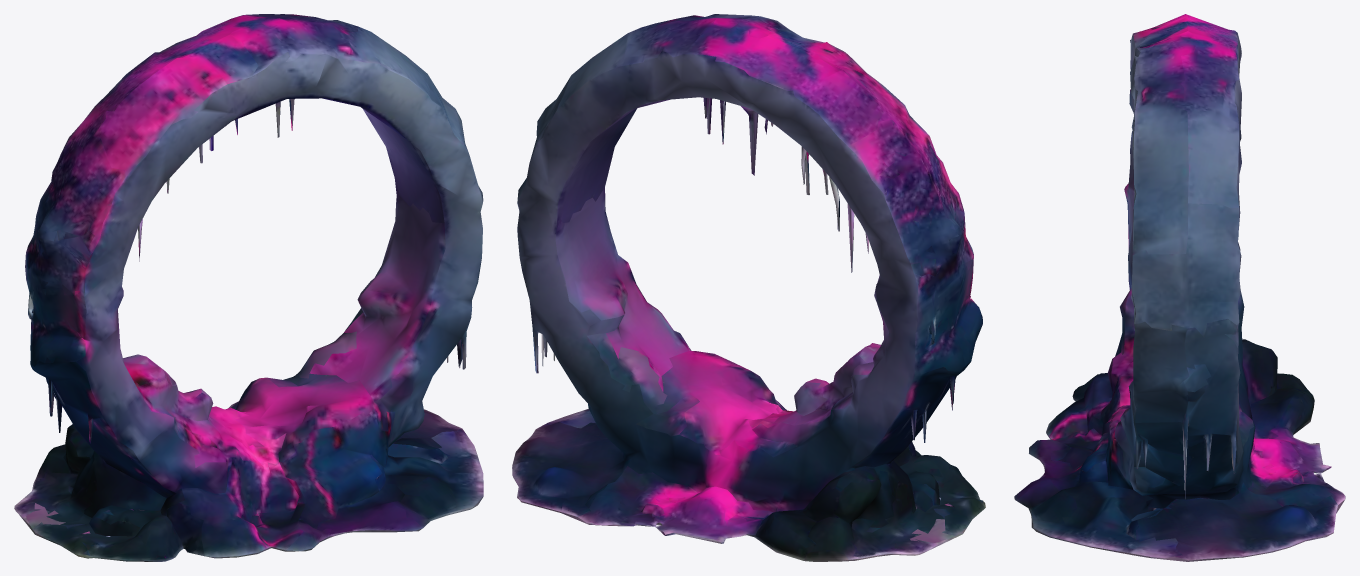
File: yggdrasil-drowned-ring-east.collider.glb
The picture shows the model from 3 angles, left to right: view 1: azimuth 30°, elevation 25°; view 2: azimuth 150°, elevation 25°; view 3: azimuth 270°, elevation 25°; orthographic projection. The views are drawn at different scales.
Visible parts, largest first — view 1: temp_mesh.ply; view 2: temp_mesh.ply; view 3: temp_mesh.ply.
Boxes of the visible parts, x1,y1,x2,y2 form: temp_mesh.ply: (14,14,483,561); temp_mesh.ply: (512,14,985,561); temp_mesh.ply: (1014,14,1345,561).
Size of the model in its own units: 1.97 by 1.93 by 1.36.
1 material, 1 textured.
